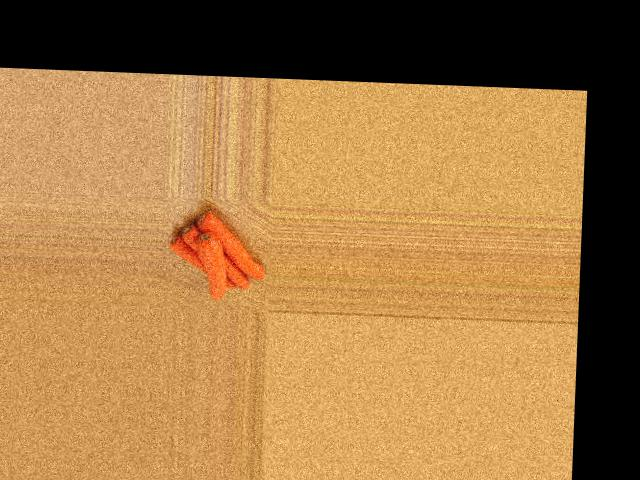carrot: (161, 232, 220, 284)
